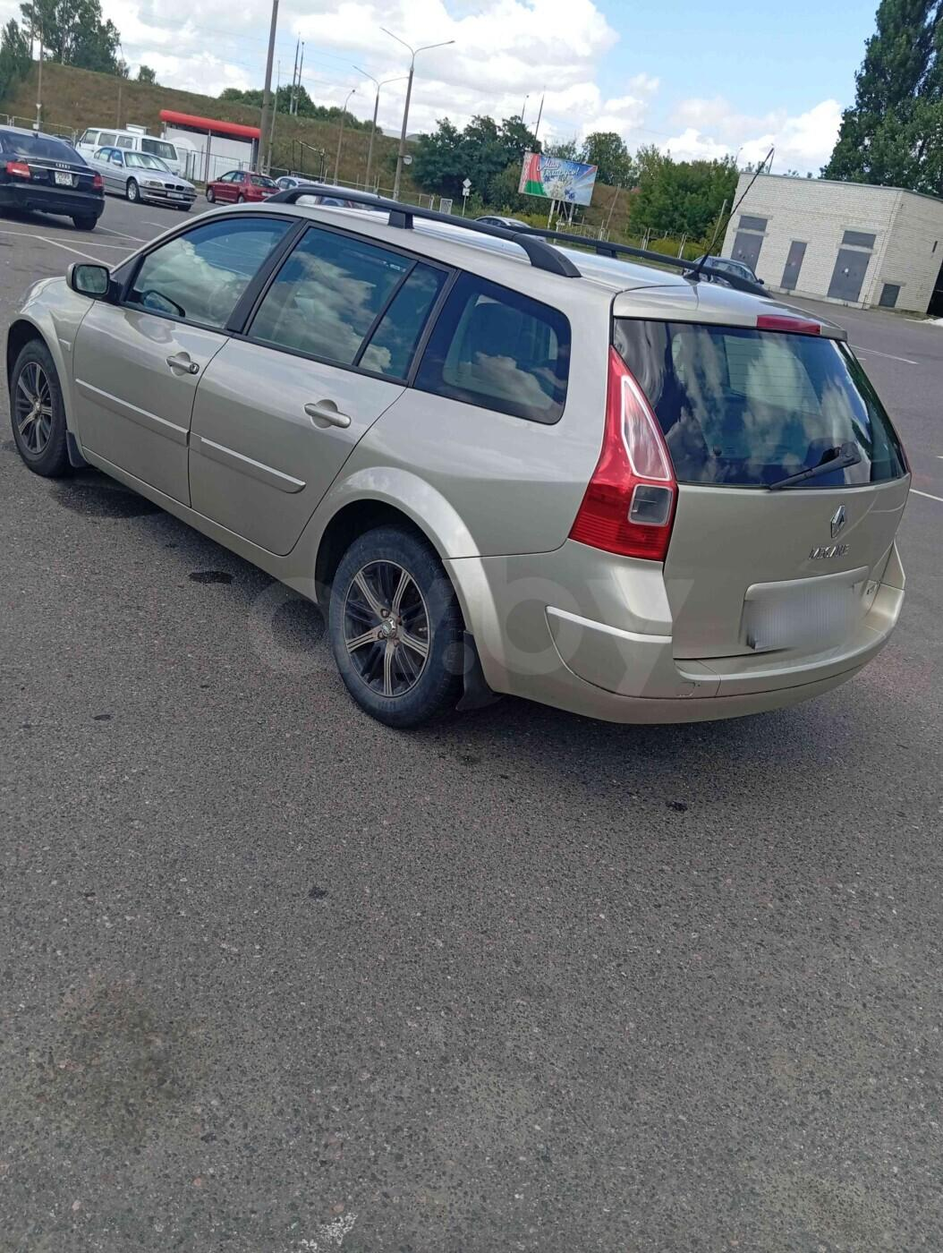Megane_2005-2009: (0, 188, 923, 779)
